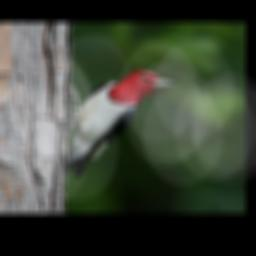Woodpecker: (60, 71, 180, 178)
